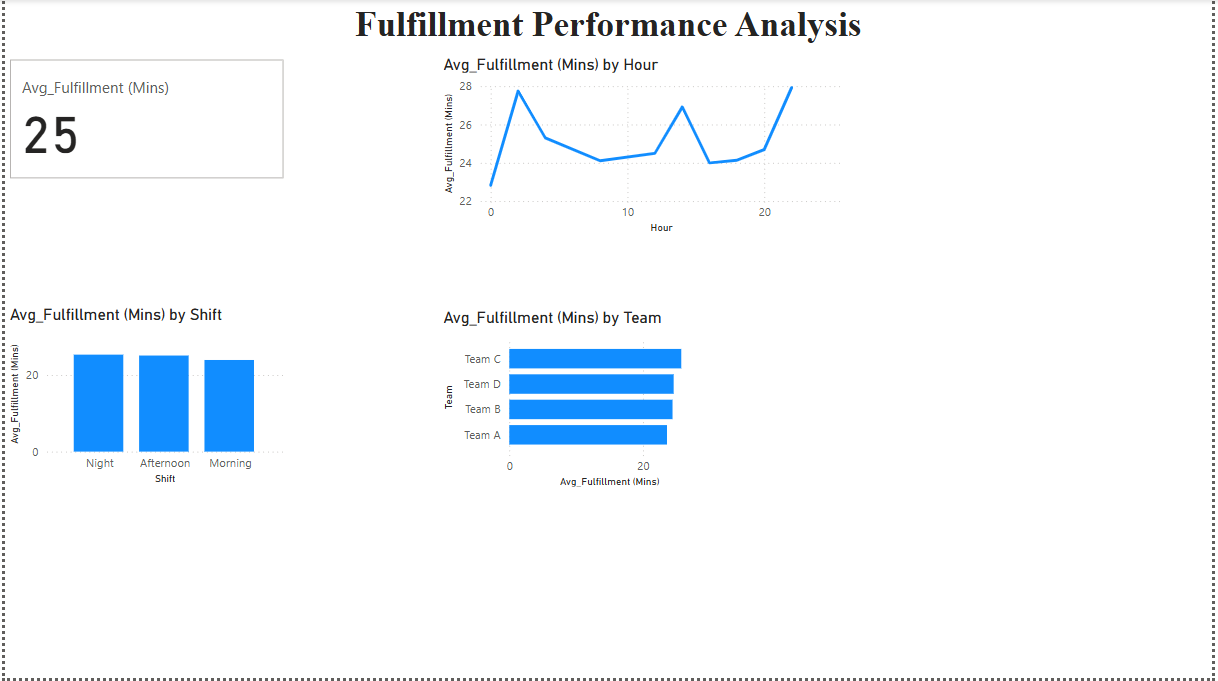

Layout of this report page (visuals, bound fields, positions):
{"tool":"powerbi","page":{"name":"Fulfillment Performance","canvas":[1280,720],"ordinal":2},"visuals":[{"type":"cardVisual","fields":{"Data":["fulfillment_data_xls.Avg_Fulfillment"]},"box":[0,58.6,300.5,136.1],"z":0},{"type":"clusteredColumnChart","fields":{"Y":["fulfillment_data_xls.Avg_Fulfillment"],"Category":["fulfillment_data_xls.Shift"]},"box":[0,325,300.5,194.6],"z":1000},{"type":"clusteredBarChart","fields":{"Y":["fulfillment_data_xls.Avg_Fulfillment"],"Category":["fulfillment_data_xls.Team"]},"box":[459.2,326.9,300.5,194.6],"z":2000},{"type":"lineChart","fields":{"Category":["fulfillment_data_xls.Hour"],"Y":["fulfillment_data_xls.Avg_Fulfillment"]},"box":[459.2,58.6,432.8,194.6],"z":3000},{"type":"textbox","box":[0,0,1279.4,58.6],"z":4000}]}

Visuals, with their boxes in screenshot pixels (x1, y1, x2, y2), scaled from the page's 1280x720 canvas onto the 1218x681 screenshot:
cardVisual - fulfillment_data_xls.Avg_Fulfillment: (0, 55, 286, 184)
clusteredColumnChart - fulfillment_data_xls.Avg_Fulfillment x fulfillment_data_xls.Shift: (0, 307, 286, 491)
clusteredBarChart - fulfillment_data_xls.Avg_Fulfillment x fulfillment_data_xls.Team: (437, 309, 723, 493)
lineChart - fulfillment_data_xls.Hour x fulfillment_data_xls.Avg_Fulfillment: (437, 55, 849, 239)
textbox: (0, 0, 1217, 55)
